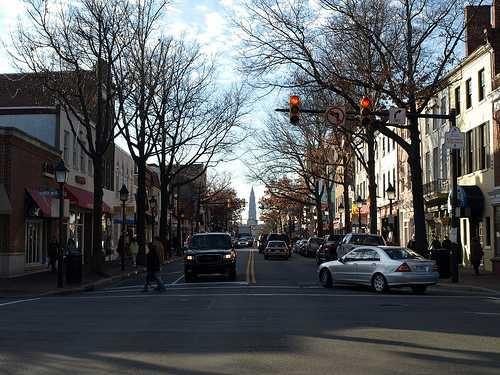red: (359, 93, 374, 129), (289, 94, 303, 126)
